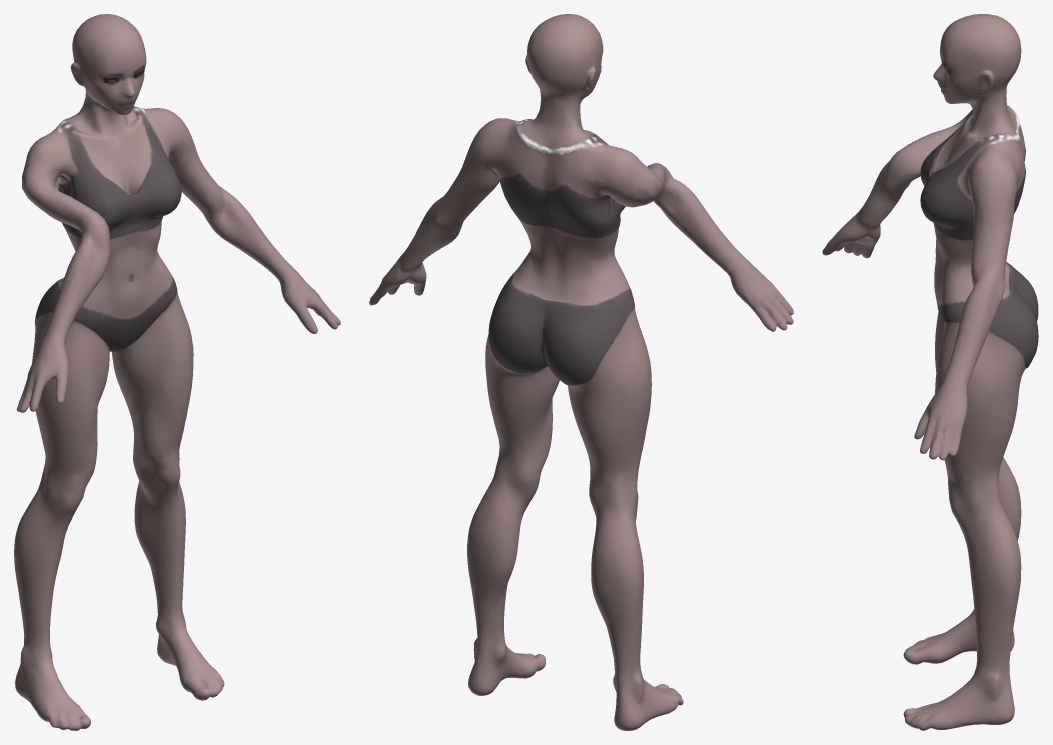
The model's file is 16-UpperArmL-60-child60-twist20-candidate.glb.
3 renders of one model, left to right at view 1: azimuth 30°, elevation 25°; view 2: azimuth 150°, elevation 25°; view 3: azimuth 270°, elevation 25°, orthographic. The views are drawn at different scales.
Visible parts, largest first — view 1: candidate; view 2: candidate; view 3: candidate.
Boxes of the visible parts, box(x1,y1,x2,y2) form: candidate: box(14, 14, 340, 730); candidate: box(369, 14, 793, 730); candidate: box(822, 14, 1038, 730).
Bounding box in the file's own units: 0.5685 × 1 × 0.2911.
1 material, 1 textured.
